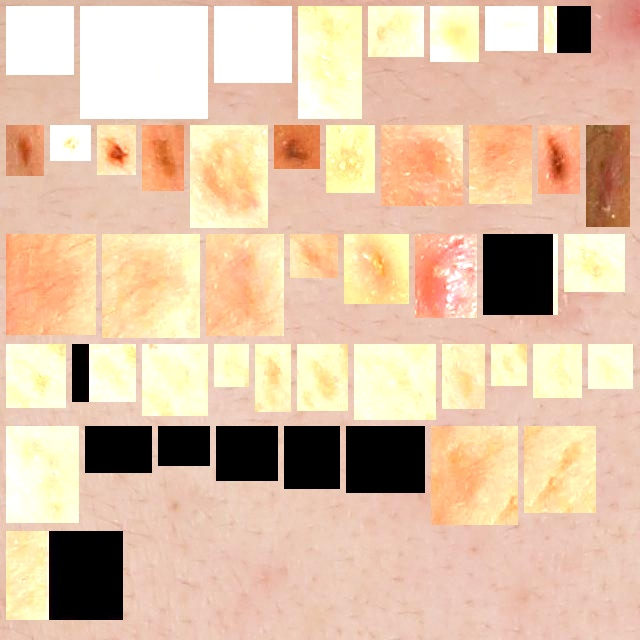melasma: (88, 14, 200, 111), (14, 539, 115, 612), (110, 242, 192, 330), (14, 242, 88, 327), (439, 434, 510, 517), (198, 133, 260, 220), (214, 242, 276, 328), (306, 14, 354, 111), (14, 434, 71, 515), (389, 133, 455, 198), (532, 434, 588, 505), (362, 352, 428, 412), (491, 242, 550, 307), (222, 14, 284, 75), (354, 434, 417, 485), (477, 133, 524, 196), (150, 352, 200, 408), (14, 14, 66, 67), (14, 352, 58, 400), (80, 352, 128, 394), (572, 242, 617, 284), (292, 434, 332, 481), (224, 434, 270, 473), (305, 352, 340, 403), (334, 133, 367, 185), (93, 434, 144, 465), (376, 14, 416, 49), (450, 352, 477, 401), (438, 14, 471, 54), (150, 133, 176, 183), (541, 352, 574, 390), (493, 14, 530, 43), (263, 352, 283, 404), (552, 14, 583, 45), (298, 242, 330, 270), (166, 434, 202, 458), (596, 352, 625, 381), (499, 352, 519, 378), (222, 352, 241, 379)
nevus: (546, 133, 572, 186), (282, 133, 312, 161), (105, 133, 128, 167), (14, 133, 36, 168), (58, 133, 83, 153)
pustule: (423, 242, 469, 310), (352, 242, 401, 296), (594, 133, 622, 219)
